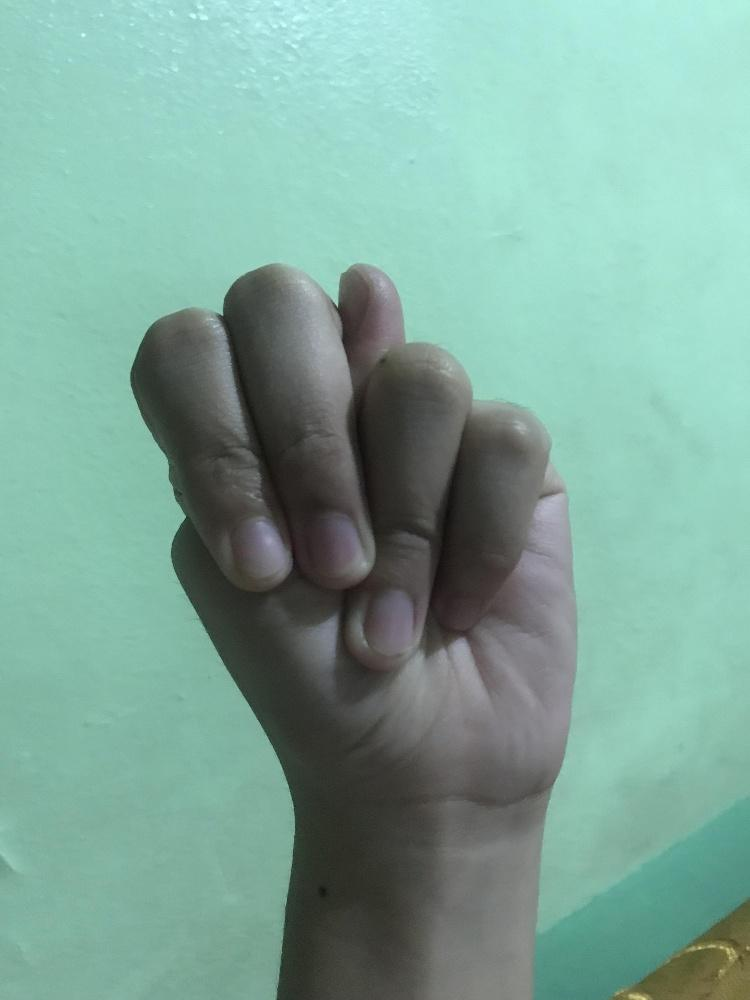n: (122, 257, 583, 809)
